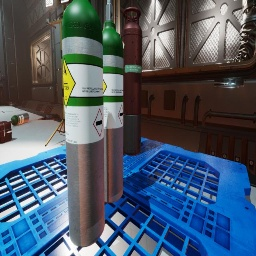0: (62, 0, 105, 248), (102, 0, 123, 203), (9, 113, 29, 126)
EmergencyPhone ,: (56, 82, 58, 90)
FireExtinguisher ]: (4, 102, 14, 106)
FirstAidBox ,: (0, 121, 12, 144)
NitrogenTank ,: (121, 7, 142, 155), (117, 33, 120, 37)
